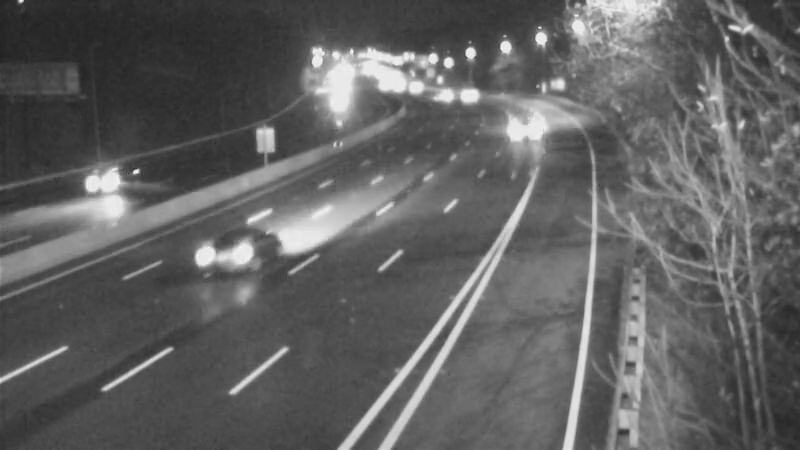vehicle: (165, 211, 245, 291), (65, 145, 145, 225), (439, 69, 489, 119), (417, 69, 467, 119), (498, 105, 548, 155)
